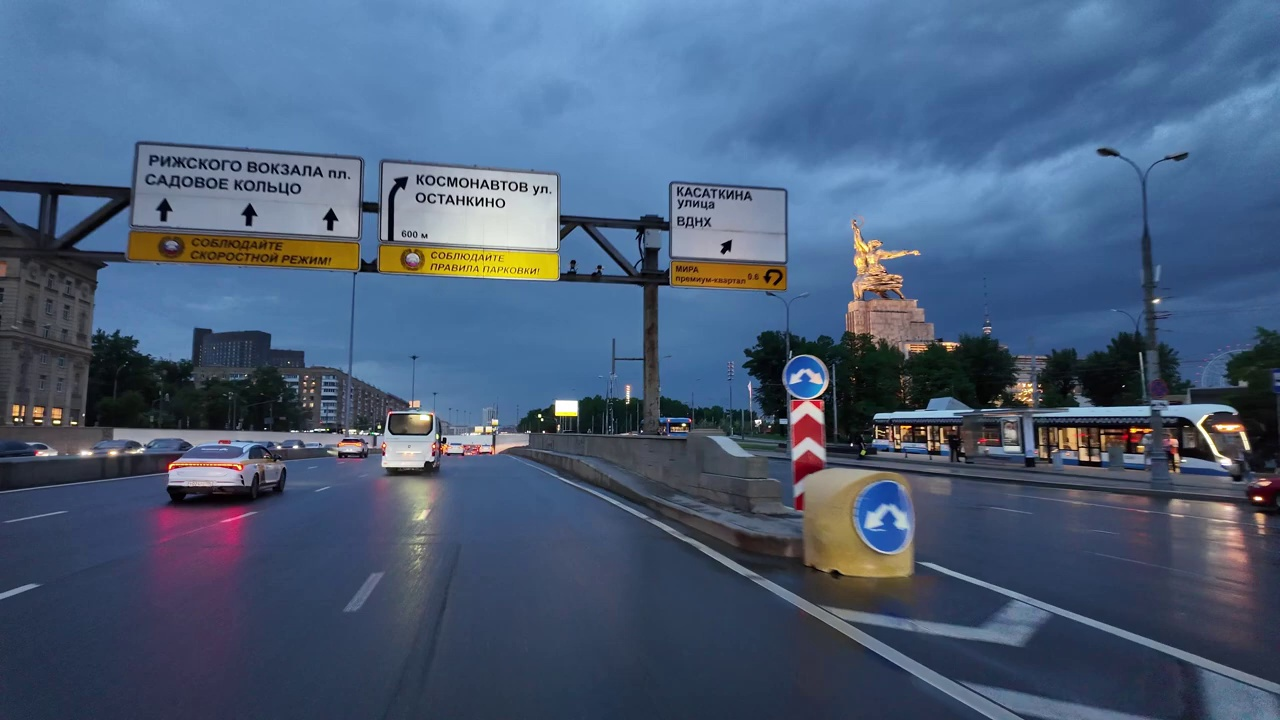apagada: (1092, 141, 1121, 165), (1162, 145, 1191, 167)
